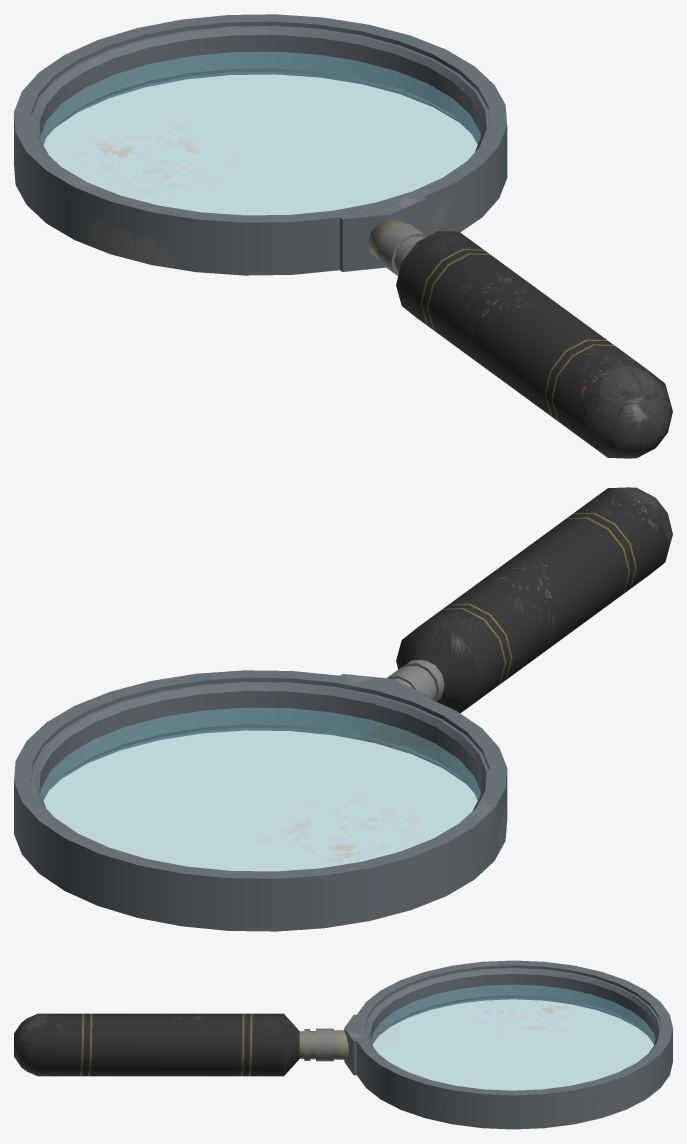
File: magnifying_glass.glb
3 renders of one model, top to bottom at view 1: azimuth 30°, elevation 25°; view 2: azimuth 150°, elevation 25°; view 3: azimuth 270°, elevation 25°, orthographic. The views are drawn at different scales.
Parts seen in each view (by area): view 1: MagnifyingGlass_Material #31_0, MagnifyingGlass_Material #30_0; view 2: MagnifyingGlass_Material #31_0, MagnifyingGlass_Material #30_0; view 3: MagnifyingGlass_Material #31_0, MagnifyingGlass_Material #30_0.
Boxes of the visible parts, x1,y1,x2,y2 form: MagnifyingGlass_Material #31_0: (14,14,672,458); MagnifyingGlass_Material #30_0: (40,52,480,214); MagnifyingGlass_Material #31_0: (14,487,672,931); MagnifyingGlass_Material #30_0: (40,708,480,870); MagnifyingGlass_Material #31_0: (14,960,672,1129); MagnifyingGlass_Material #30_0: (371,985,654,1090).
Bounding box in the file's own units: 20.37 × 4.01 × 42.05.
Materials: 2 (2 with a texture image).
